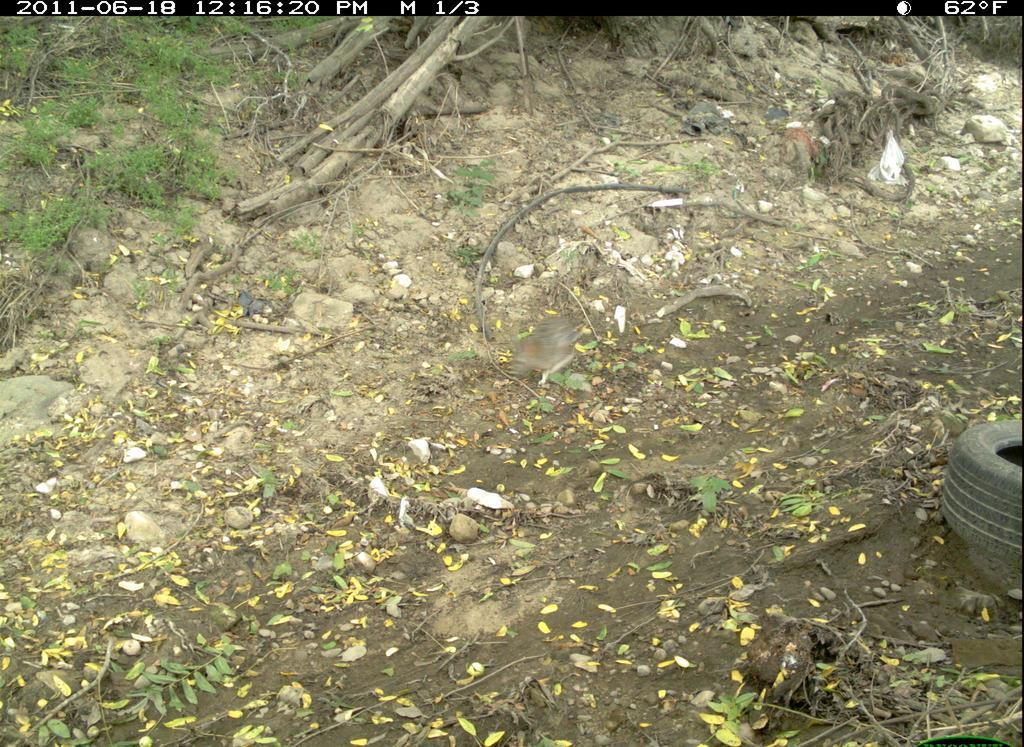rabbit: (505, 306, 602, 384)
